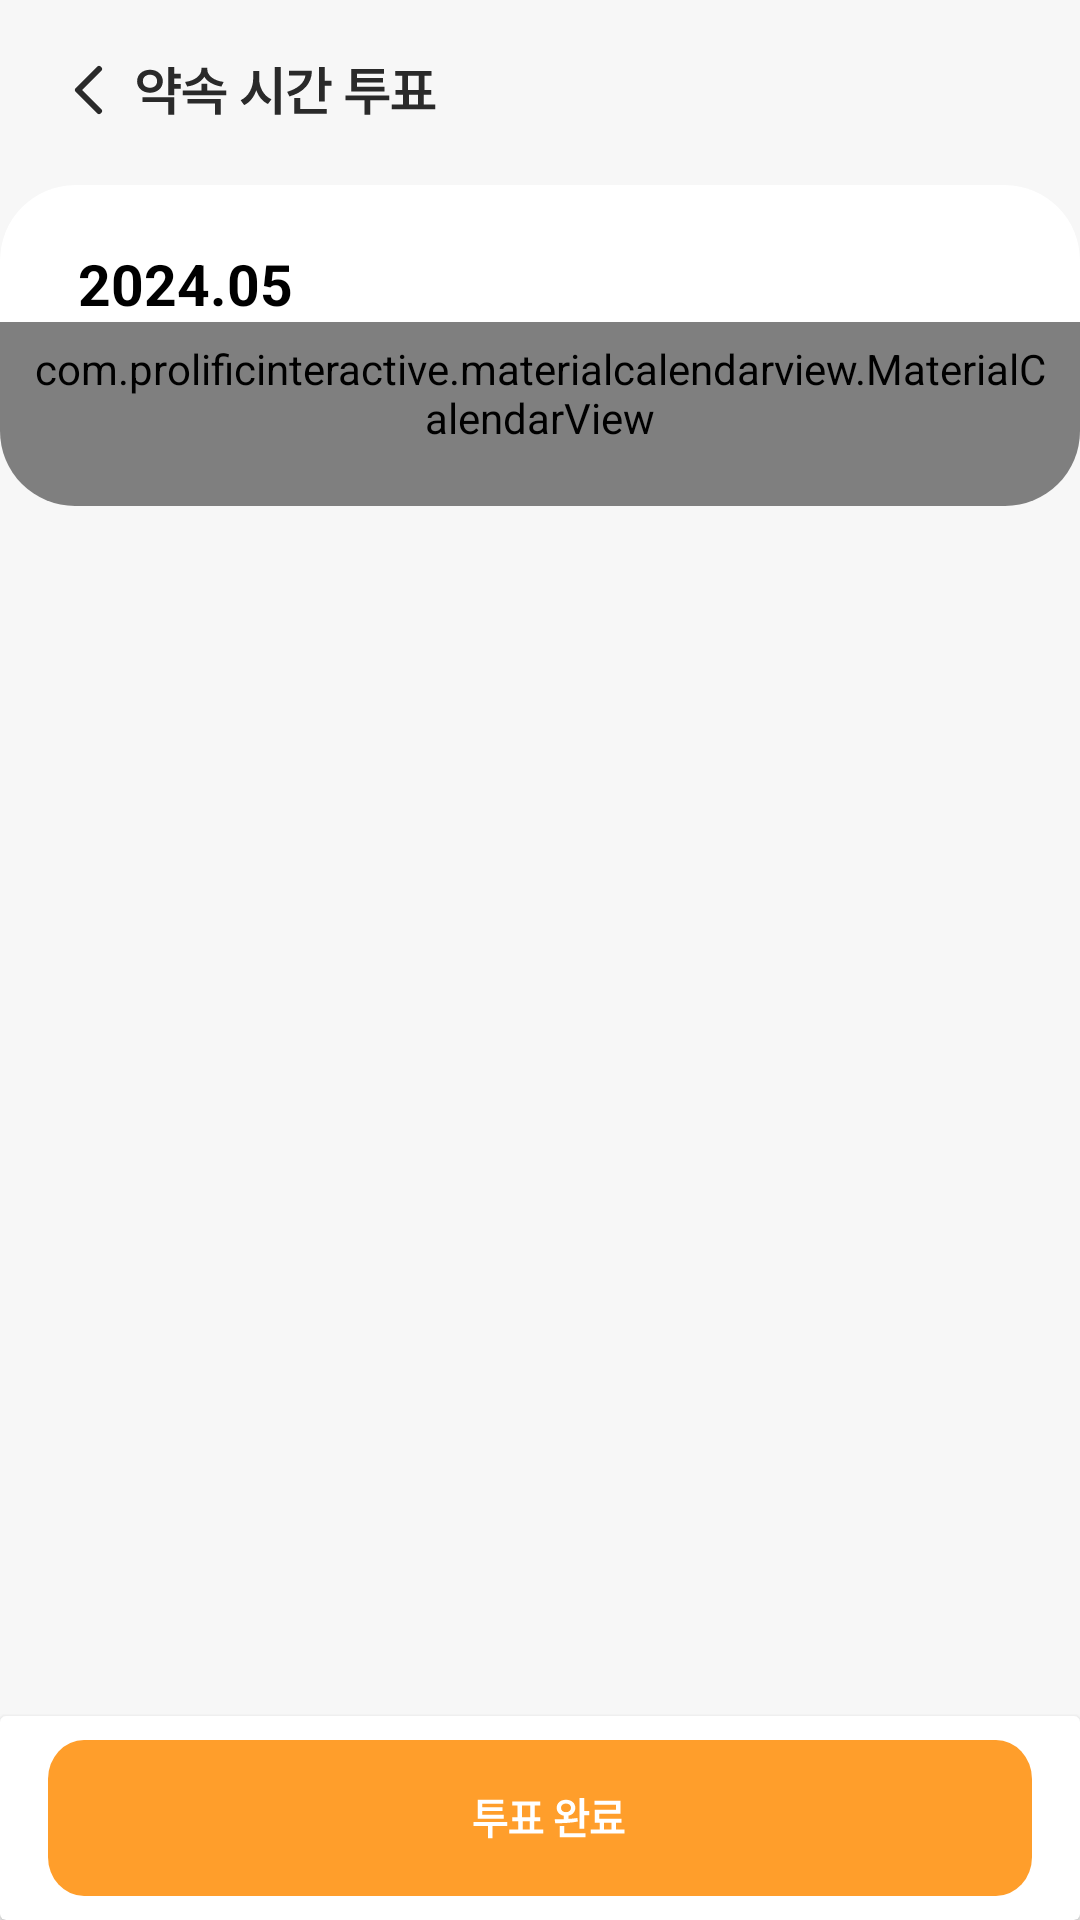

Named icons in this screenshot (1080px x 1920px) and their centers, point (x, y):
navigate up: point (88, 90)
